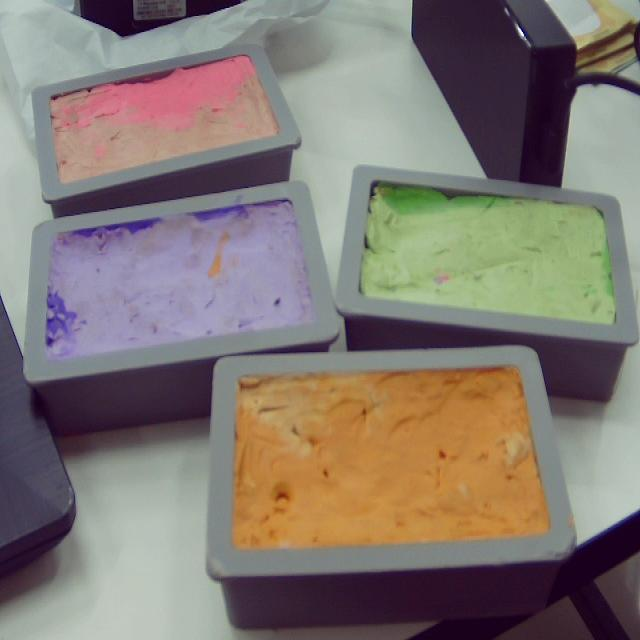block: (203, 343, 576, 629), (23, 176, 345, 434), (335, 164, 638, 404), (30, 43, 304, 219)
